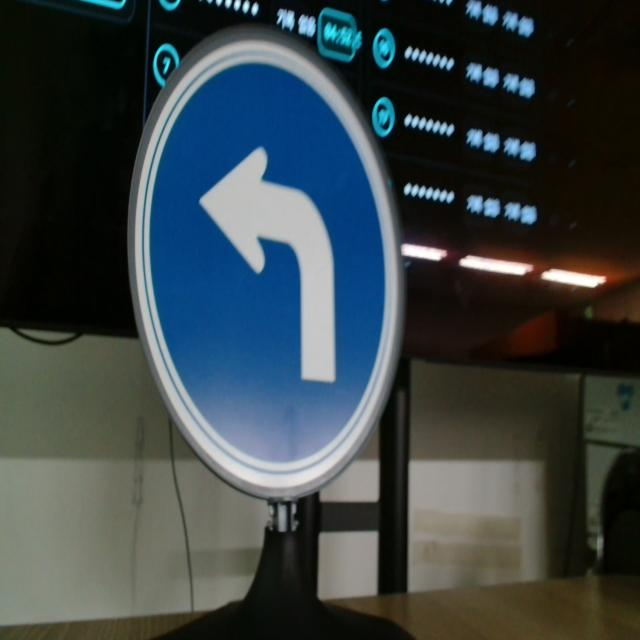left_direction: (126, 28, 411, 518)
